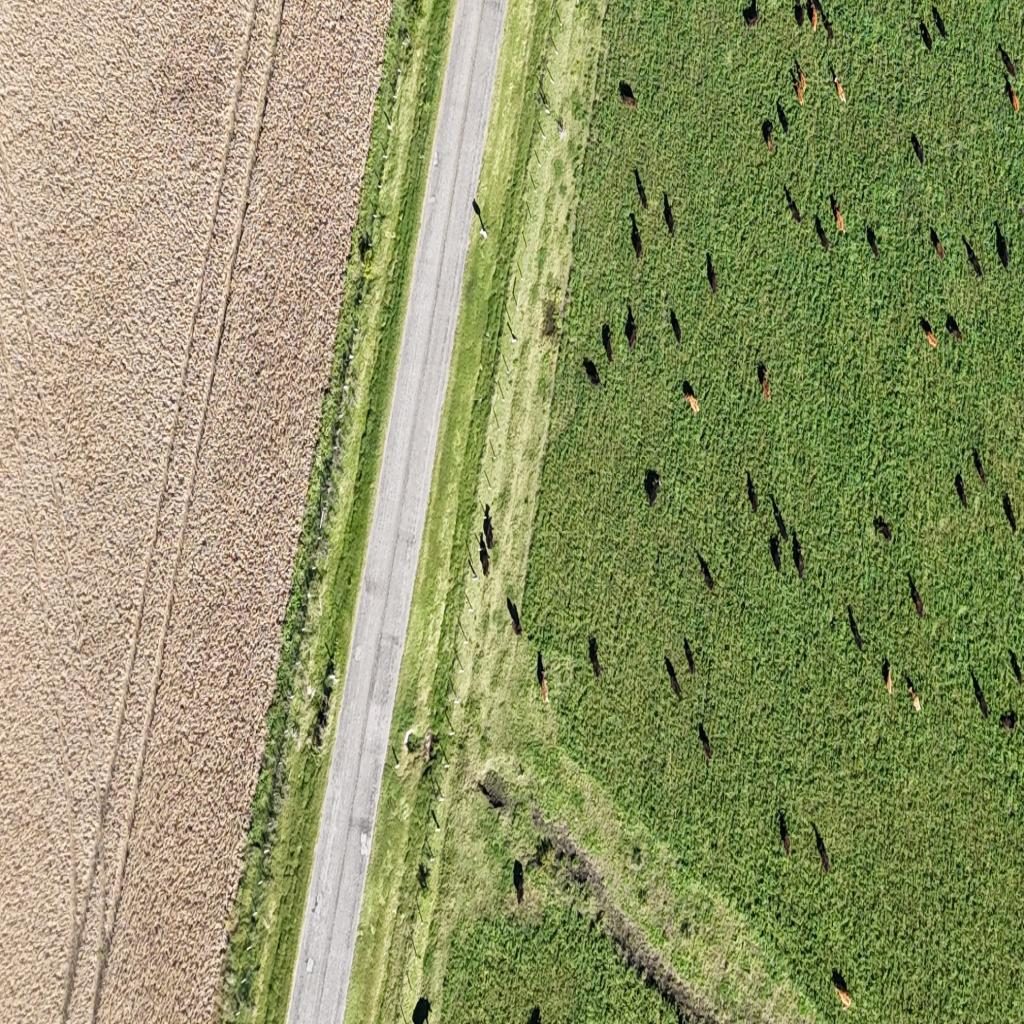cow: (477, 773, 509, 812), (972, 671, 991, 719), (813, 823, 830, 874), (963, 236, 982, 280), (771, 495, 788, 542), (904, 673, 923, 715), (666, 656, 683, 702), (848, 603, 864, 651), (832, 968, 852, 1006), (908, 574, 925, 618), (998, 45, 1018, 82), (995, 223, 1010, 271), (792, 59, 807, 105), (537, 654, 550, 706), (644, 468, 662, 505), (506, 595, 522, 636), (1001, 492, 1017, 532), (818, 5, 834, 45), (630, 213, 643, 262), (634, 166, 648, 211), (786, 186, 802, 225), (1003, 78, 1019, 116), (779, 809, 791, 859), (682, 382, 700, 415), (698, 722, 712, 764), (830, 192, 844, 234), (792, 535, 805, 580), (746, 469, 759, 514), (700, 556, 716, 592), (929, 225, 945, 260), (920, 317, 938, 348), (706, 251, 718, 297), (589, 640, 602, 682), (742, 0, 760, 30), (932, 5, 947, 41), (481, 503, 493, 548), (412, 996, 431, 1024), (663, 192, 675, 236), (619, 79, 637, 108), (874, 514, 892, 543), (972, 447, 986, 484), (513, 859, 524, 906), (583, 357, 600, 387), (757, 362, 770, 401), (683, 636, 695, 678), (769, 533, 781, 575), (815, 216, 829, 252), (866, 225, 880, 260), (478, 532, 489, 576), (946, 314, 962, 344), (881, 657, 893, 697), (602, 322, 614, 362), (777, 99, 789, 138), (919, 19, 933, 52), (626, 314, 638, 352), (911, 132, 924, 166), (955, 472, 967, 508), (762, 118, 774, 153), (670, 308, 681, 344), (1000, 710, 1016, 732), (834, 75, 846, 104), (808, 0, 818, 32), (793, 1, 804, 28), (1016, 649, 1024, 683), (527, 1004, 541, 1023)
